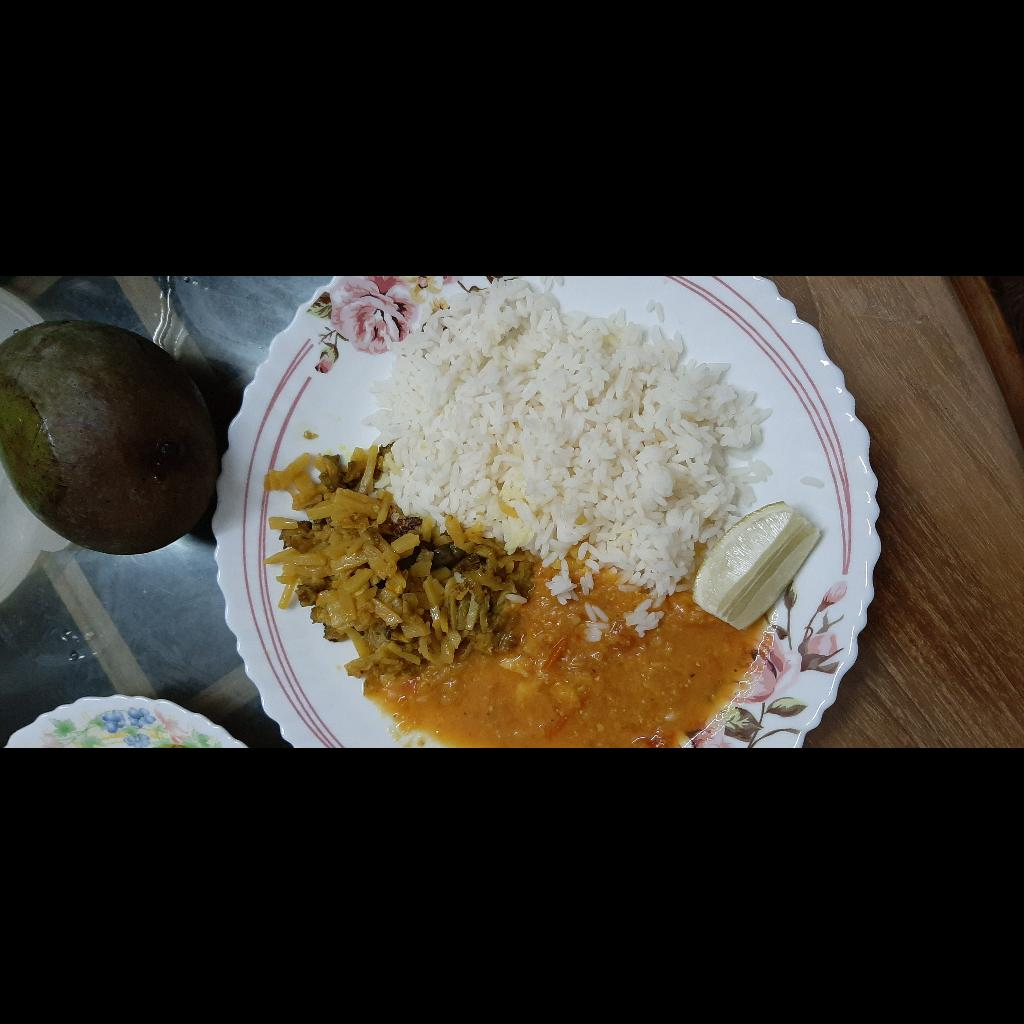daal: (0, 641, 156, 1024)
korola-vaji: (172, 673, 213, 759), (266, 602, 299, 640)
lemon: (116, 970, 225, 1024)
mango: (194, 276, 428, 495)
potato: (74, 540, 296, 800), (210, 540, 234, 578)
rice: (107, 638, 472, 1024), (139, 776, 158, 805)
